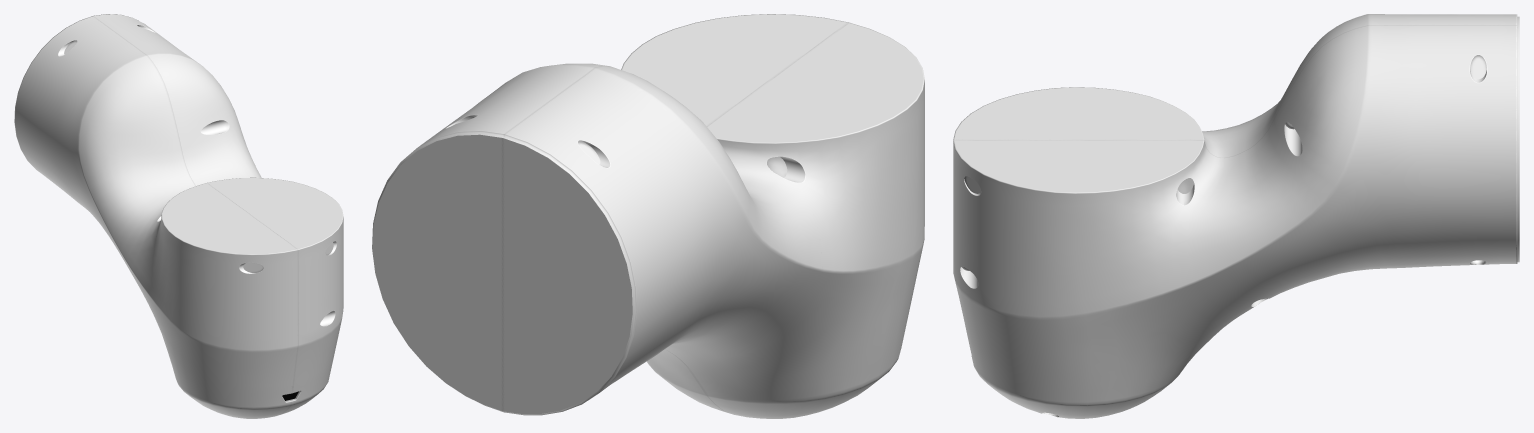
The picture shows the model from 3 angles, left to right: view 1: azimuth 30°, elevation 25°; view 2: azimuth 150°, elevation 25°; view 3: azimuth 270°, elevation 25°; orthographic projection. The views are drawn at different scales.
Visible parts, largest first — view 1: link1; view 2: link1; view 3: link1.
Part boxes in pixels (x1,y1,x2,y2): link1: (14,14,343,418); link1: (372,14,924,418); link1: (953,14,1519,418).
Bounding box in the file's own units: 0.11 × 0.1842 × 0.2481.
Materials: 1 (1 with a texture image).
